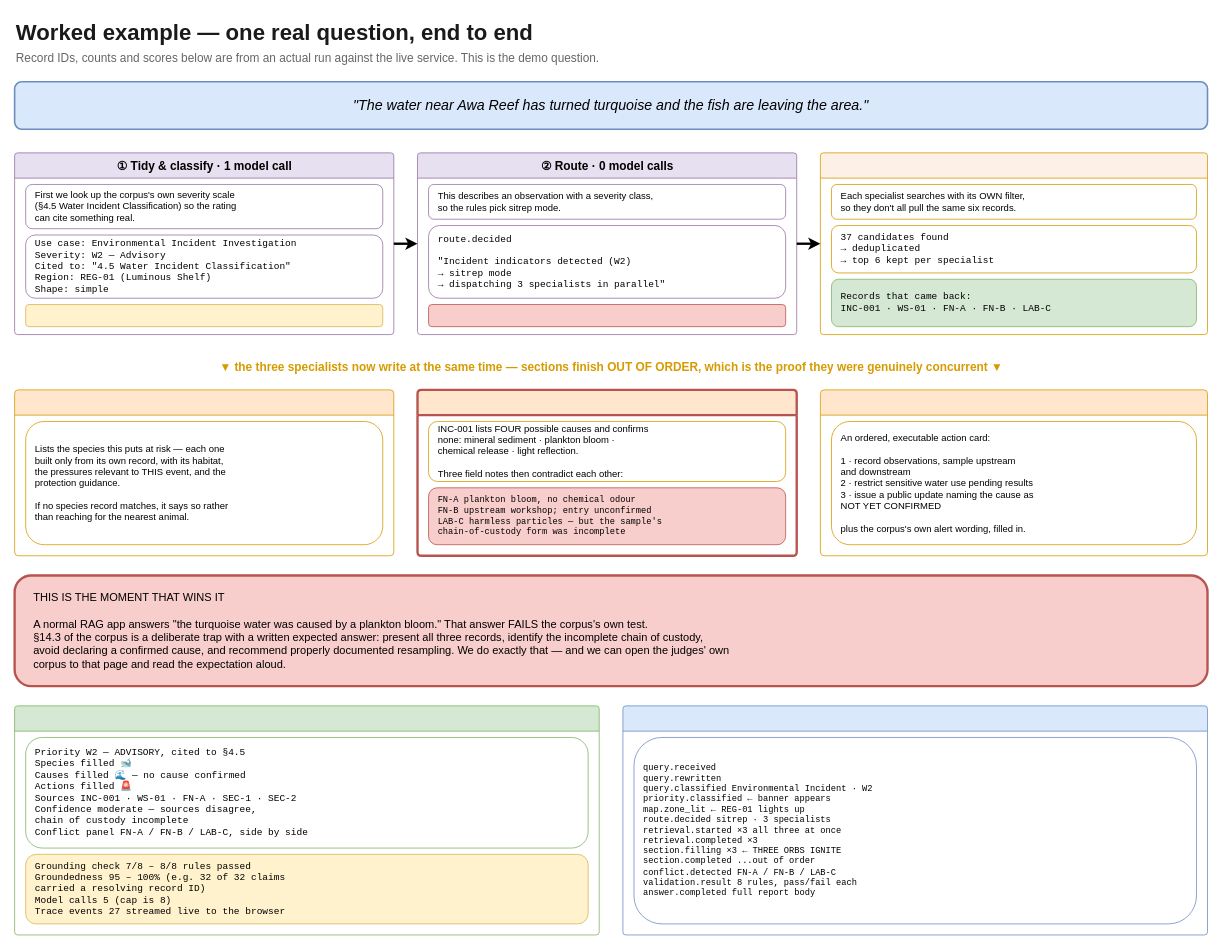
This 1222x949 diagram has some shape labels left out. Each missing label, with the box of its shape:
Decided by rules in code, not by the model: (428, 304, 786, 327)
What the judge SEES while this happens (live trace): (622, 705, 1208, 935)
→ triage banner + map zone render NOW: (25, 304, 383, 327)
③ Retrieve · 3 searches at once: (820, 152, 1208, 335)
④ What comes back: (14, 705, 599, 935)
🌊 Likely Causes ← the interesting one: (416, 388, 798, 557)
🐋 Affected Species: (14, 389, 394, 556)
🚨 Recommended Actions: (820, 389, 1208, 556)
